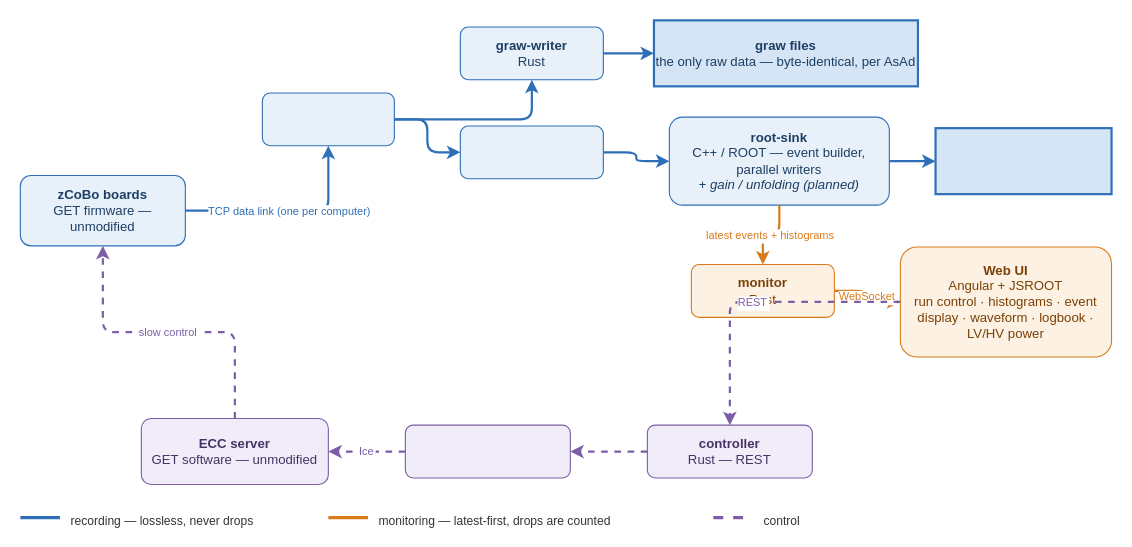
Image size: 1132x547. Some labels were removed from this diagram. Each missing label, with the box of its shape:
decoder Rust: (459, 125, 603, 179)
ecc-bridge C++ — Ice client: (404, 424, 570, 478)
receiver Rust: (261, 92, 394, 146)
run.root analysis-ready (PEventTPC): (934, 127, 1112, 195)
